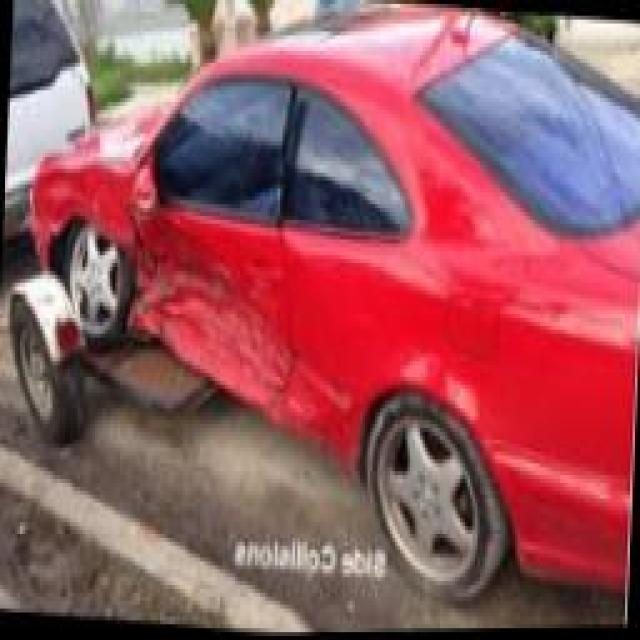Door: (135, 249, 282, 400)
Fender: (37, 160, 126, 237)
